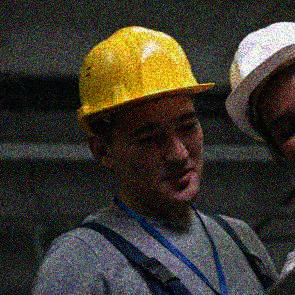helmet: (76, 25, 214, 207), (225, 16, 295, 174)
